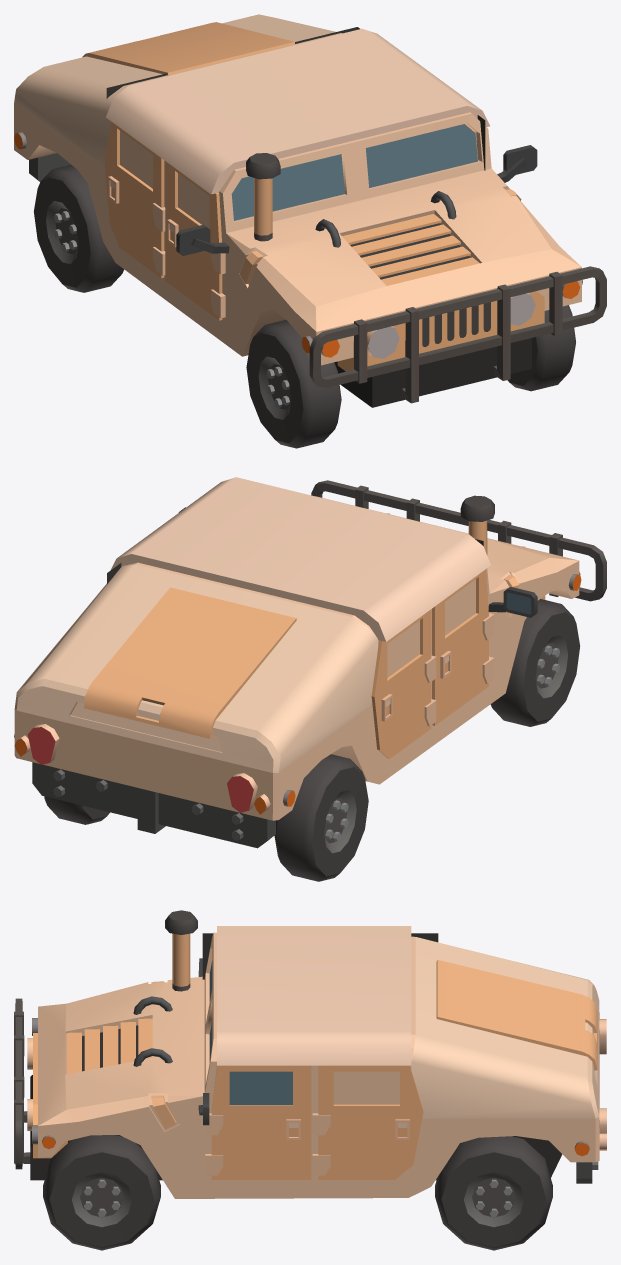
Rendered from jeep_open.glb.
3 views of the same model, one above another, from view 1: azimuth 30°, elevation 25°; view 2: azimuth 150°, elevation 25°; view 3: azimuth 270°, elevation 25° (orthographic). The views are drawn at different scales.
Visible parts, largest first — view 1: Hummer_003, Wheel_001_R.001, Wheel_001_R, Wheel_001_L.001, JeepInterior; view 2: Hummer_003, Wheel_001_R, Wheel_001_R.001, Wheel_001_L; view 3: Hummer_003, Wheel_001_L.001, Wheel_001_L, JeepInterior.
Part boxes in pixels (<box>): Hummer_003: <box>14,14,606,407</box>; Wheel_001_R.001: <box>246,320,341,448</box>; Wheel_001_R: <box>33,164,123,292</box>; Wheel_001_L.001: <box>507,305,575,391</box>; JeepInterior: <box>106,27,485,170</box>; Hummer_003: <box>14,477,606,848</box>; Wheel_001_R: <box>274,754,368,881</box>; Wheel_001_R.001: <box>490,599,580,726</box>; Wheel_001_L: <box>44,796,109,824</box>; Hummer_003: <box>14,910,606,1198</box>; Wheel_001_L.001: <box>43,1135,160,1250</box>; Wheel_001_L: <box>435,1136,552,1250</box>; JeepInterior: <box>202,933,438,979</box>.
Bounding box in the file's own units: 2.79 × 1.85 × 4.35.
2 materials, 1 textured.
